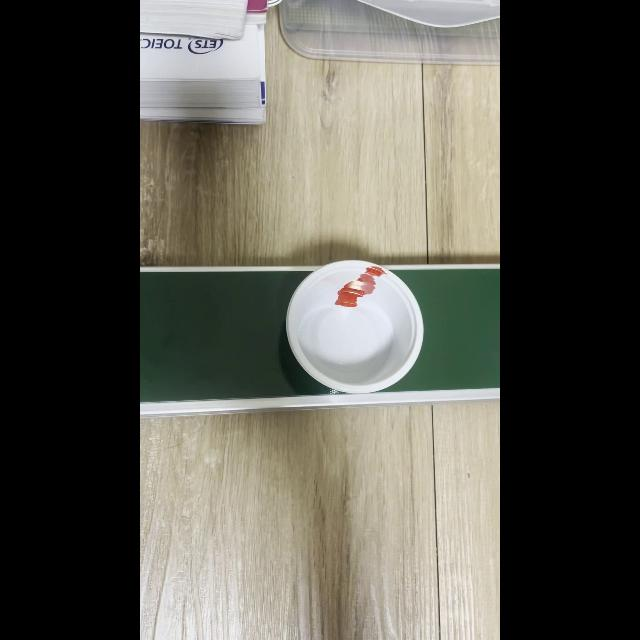dirty: (290, 263, 414, 382)
